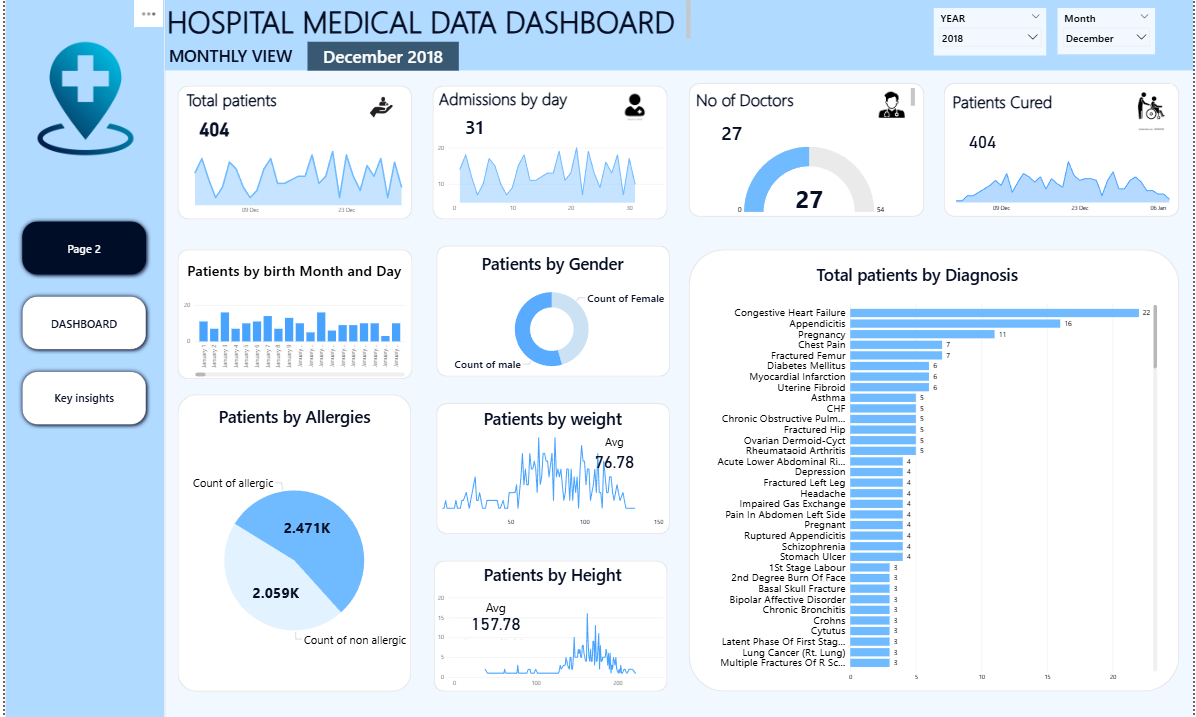

The dashboard page shown, as its layout file describes it:
{"tool":"powerbi","page":{"name":"Page 2","canvas":[2300,1400],"ordinal":0},"visuals":[{"type":"shape","box":[334.6,168.6,453.9,259.4],"z":0},{"type":"shape","box":[0,0,310,1400.5],"z":1000},{"type":"shape","box":[308.6,0,1991.9,140.1],"z":2000},{"type":"textbox","box":[308.6,0,1021.9,85.6],"z":3000},{"type":"textbox","box":[345.9,169.3,433,65.3],"z":4000},{"type":"card","fields":{"Values":["admissions.No of Patients"]},"box":[333.8,217.7,142.7,65.3],"z":5000},{"type":"slicer","fields":{"Values":["admissions.Year"]},"box":[1797.2,19.4,217.7,91.9],"z":6000},{"type":"slicer","fields":{"Values":["admissions.Month"]},"box":[2036.6,19.4,188.7,89.5],"z":7000},{"type":"areaChart","fields":{"Category":["admissions.admission_date.Variation.Date Hierarchy.Day"],"Y":["admissions.No of Patients"]},"box":[344.9,282.7,443.5,145.2],"z":8000},{"type":"card","fields":{"Values":["Min(admissions.Month & Year)"]},"box":[585.4,84.7,292.7,55.6],"z":9000},{"type":"textbox","box":[311.2,85.6,274.9,83],"z":10000},{"type":"shape","box":[828.1,168.6,455,259.4],"z":11000},{"type":"shape","box":[1816.4,165.6,455.7,259],"z":12000},{"type":"shape","box":[1322.7,165.6,455.7,259],"z":13000},{"type":"textbox","box":[834.5,166.9,425.7,67.7],"z":14000},{"type":"shape","box":[834.5,478.8,452.3,254],"z":15000},{"type":"donutChart","fields":{"Y":["CountNonNull(patients.Female)","CountNonNull(patients.male)"]},"box":[834.5,544.2,447.5,193.5],"z":16000},{"type":"shape","box":[1322.7,485,949.3,855.9],"z":17000},{"type":"clusteredBarChart","fields":{"Category":["admissions.diagnosis"],"Y":["CountNonNull(admissions.patient_id)"]},"box":[1361.8,580.5,873.2,749.8],"z":18000},{"type":"textbox","box":[1565,508,423.3,72.6],"z":19000},{"type":"textbox","box":[907.1,486.2,304.8,58.1],"z":20000},{"type":"shape","box":[333.8,486.2,454.7,251.6],"z":21000},{"type":"clusteredColumnChart","title":"Patients by birth Month and Day","fields":{"Y":["CountNonNull(patients.patient_id)"],"Category":["patients.birth_date.Variation.Date Hierarchy.Month","patients.birth_date.Variation.Date Hierarchy.Day"]},"box":[341.1,508,437.8,229.8],"z":22000},{"type":"shape","box":[833.3,783.6,452.3,254],"z":23000},{"type":"card","fields":{"Values":["Count(admissions.Day)"]},"box":[834.5,215.3,147.5,67.7],"z":24000},{"type":"shape","box":[333.8,766.8,452.3,575.7],"z":25000},{"type":"textbox","box":[1332.8,169.3,433,48.4],"z":26000},{"type":"gauge","fields":{"Y":["CountNonNull(doctors.doctor_id)"]},"box":[1332.8,282,454.1,141],"z":27000},{"type":"areaChart","fields":{"Category":["admissions.discharge_date.Variation.Date Hierarchy.Day"],"Y":["admissions.No of Patients"]},"box":[1818,282,454.1,141],"z":28000},{"type":"card","fields":{"Values":["admissions.No of Patients"]},"box":[1818.9,241.9,145.1,67.7],"z":29000},{"type":"textbox","box":[1827.9,173.8,432.8,67.2],"z":30000},{"type":"pieChart","fields":{"Y":["CountNonNull(patients.non allergic)","CountNonNull(patients.allergic)"]},"box":[333.8,841.7,452.3,493.4],"z":31000},{"type":"textbox","box":[341.1,783.7,437.8,53.2],"z":32000},{"type":"card","fields":{"Values":["CountNonNull(doctors.doctor_id)"]},"box":[1332.8,227.4,147.5,67.7],"z":33000},{"type":"lineChart","fields":{"Category":["patients.weight"],"Y":["patients.count patients"]},"box":[832.1,836.9,447.5,195.9],"z":34000},{"type":"textbox","box":[907.1,786.1,304.8,58.1],"z":35000},{"type":"image","box":[677.3,174.2,101.6,75],"z":36000},{"type":"shape","box":[829.7,1088.5,452.3,254],"z":37000},{"type":"lineChart","fields":{"Category":["patients.height"],"Y":["patients.count patients"]},"box":[832.1,1146.5,447.5,195.9],"z":38000},{"type":"textbox","box":[904.6,1088.5,309.6,58.1],"z":39000},{"type":"image","box":[1178,176.6,82.2,65.3],"z":40000},{"type":"image","box":[26.6,79.8,258.8,229.8],"z":41000},{"type":"image","box":[1685.9,174.2,60.5,65.3],"z":42000},{"type":"pageNavigator","box":[24.2,423.3,258.8,413.6],"z":43000},{"type":"image","box":[2164.8,162.1,106.4,99.2],"z":44000},{"type":"areaChart","fields":{"Category":["admissions.admission_date.Variation.Date Hierarchy.Day"],"Y":["CountNonNull(admissions.admission_date)"]},"box":[832.1,275.7,447.5,147.5],"z":45000},{"type":"card","title":"Avg","fields":{"Values":["Avg(patients.weight)"]},"box":[1100.6,844.2,157.2,72.6],"z":46000},{"type":"card","title":"Avg","fields":{"Values":["Avg(patients.height)"]},"box":[878,1163.4,142.7,82.2],"z":47000},{"type":"cardVisual","fields":{"Data":["CountNonNull(patients.allergic)"]},"box":[522.5,986.9,125.8,67.7],"z":48000},{"type":"cardVisual","fields":{"Data":["CountNonNull(patients.non allergic)"]},"box":[462,1112.7,125.8,67.7],"z":49000}]}

Visuals, with their boxes on the page's 2300x1400 design canvas (x1, y1, x2, y2). These are canvas units, not pixel positions in the 1196x717 screenshot, which may show the page scaled, cropped or inside an application window:
shape: 335 169 788 428
shape: 0 0 310 1400
shape: 309 0 2300 140
textbox: 309 0 1330 86
textbox: 346 169 779 235
card - admissions.No of Patients: 334 218 476 283
slicer - admissions.Year: 1797 19 2015 111
slicer - admissions.Month: 2037 19 2225 109
areaChart - admissions.admission_date.Variation.Date Hierarchy.Day x admissions.No of Patients: 345 283 788 428
card - Min(admissions.Month & Year): 585 85 878 140
textbox: 311 86 586 169
shape: 828 169 1283 428
shape: 1816 166 2272 425
shape: 1323 166 1778 425
textbox: 834 167 1260 235
shape: 834 479 1287 733
donutChart - CountNonNull(patients.Female) x CountNonNull(patients.male): 834 544 1282 738
shape: 1323 485 2272 1341
clusteredBarChart - admissions.diagnosis x CountNonNull(admissions.patient_id): 1362 580 2235 1330
textbox: 1565 508 1988 581
textbox: 907 486 1212 544
shape: 334 486 788 738
"Patients by birth Month and Day" clusteredColumnChart: 341 508 779 738
shape: 833 784 1286 1038
card - Count(admissions.Day): 834 215 982 283
shape: 334 767 786 1342
textbox: 1333 169 1766 218
gauge - CountNonNull(doctors.doctor_id): 1333 282 1787 423
areaChart - admissions.discharge_date.Variation.Date Hierarchy.Day x admissions.No of Patients: 1818 282 2272 423
card - admissions.No of Patients: 1819 242 1964 310
textbox: 1828 174 2261 241
pieChart - CountNonNull(patients.non allergic) x CountNonNull(patients.allergic): 334 842 786 1335
textbox: 341 784 779 837
card - CountNonNull(doctors.doctor_id): 1333 227 1480 295
lineChart - patients.weight x patients.count patients: 832 837 1280 1033
textbox: 907 786 1212 844
image: 677 174 779 249
shape: 830 1088 1282 1342
lineChart - patients.height x patients.count patients: 832 1146 1280 1342
textbox: 905 1088 1214 1147
image: 1178 177 1260 242
image: 27 80 285 310
image: 1686 174 1746 240
pageNavigator: 24 423 283 837
image: 2165 162 2271 261
areaChart - admissions.admission_date.Variation.Date Hierarchy.Day x CountNonNull(admissions.admission_date): 832 276 1280 423
"Avg" card: 1101 844 1258 917
"Avg" card: 878 1163 1021 1246
cardVisual - CountNonNull(patients.allergic): 522 987 648 1055
cardVisual - CountNonNull(patients.non allergic): 462 1113 588 1180
